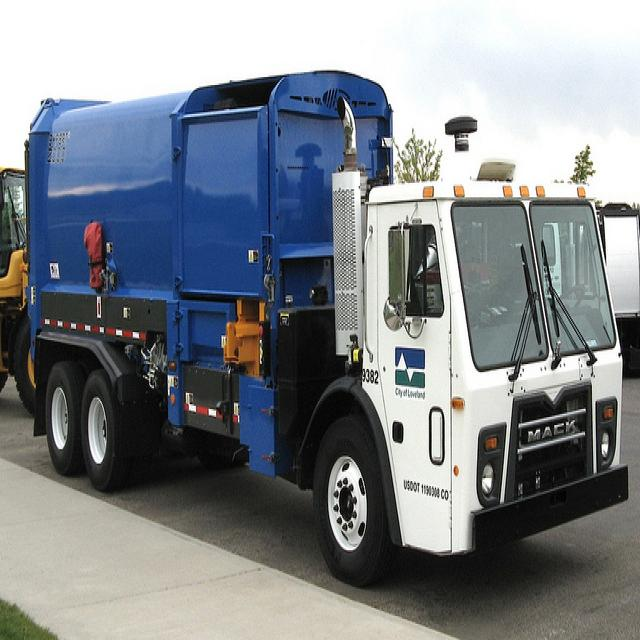Vehicle: (26, 70, 636, 583)
